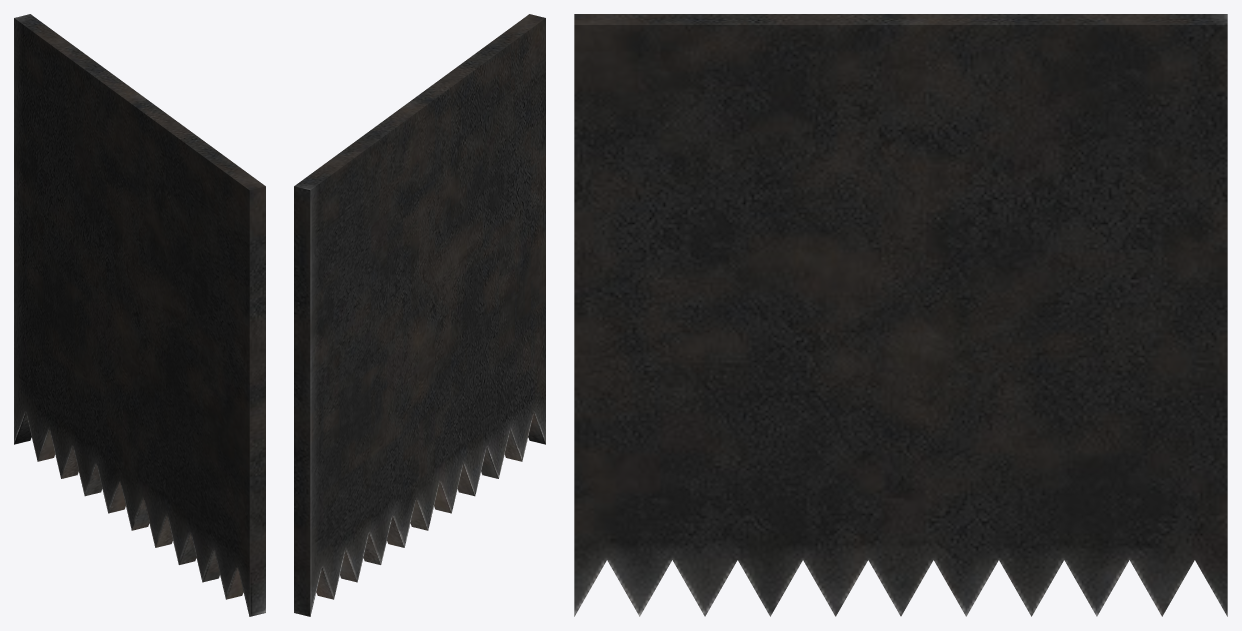
Rendered from Fender.fbx.
3 renders of one model, left to right at view 1: azimuth 30°, elevation 25°; view 2: azimuth 150°, elevation 25°; view 3: azimuth 270°, elevation 25°, orthographic. The views are drawn at different scales.
Visible parts, largest first — view 1: pCube1; view 2: pCube1; view 3: pCube1.
Part boxes in pixels (x1,y1,x2,y2): pCube1: (14, 14, 265, 616); pCube1: (294, 14, 545, 616); pCube1: (574, 14, 1227, 616).
Bounding box in the file's own units: 0.1217 × 3.03 × 3.03.
1 material, 1 textured.
